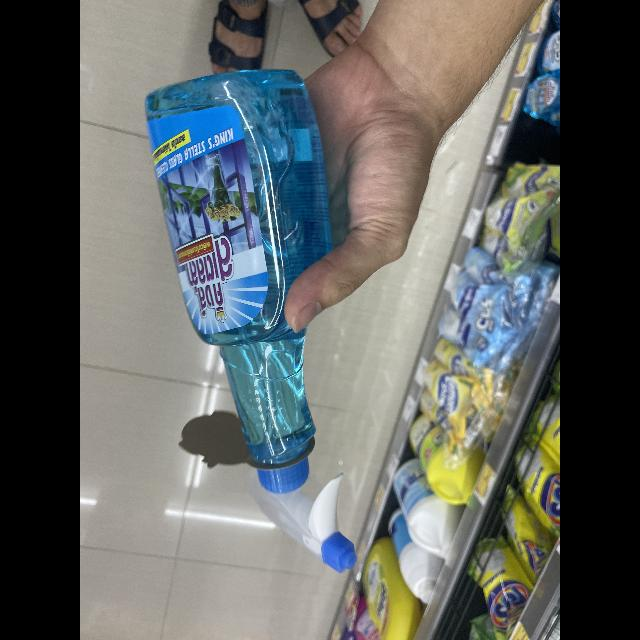chemical_plastic_bottle: (132, 66, 394, 570)
